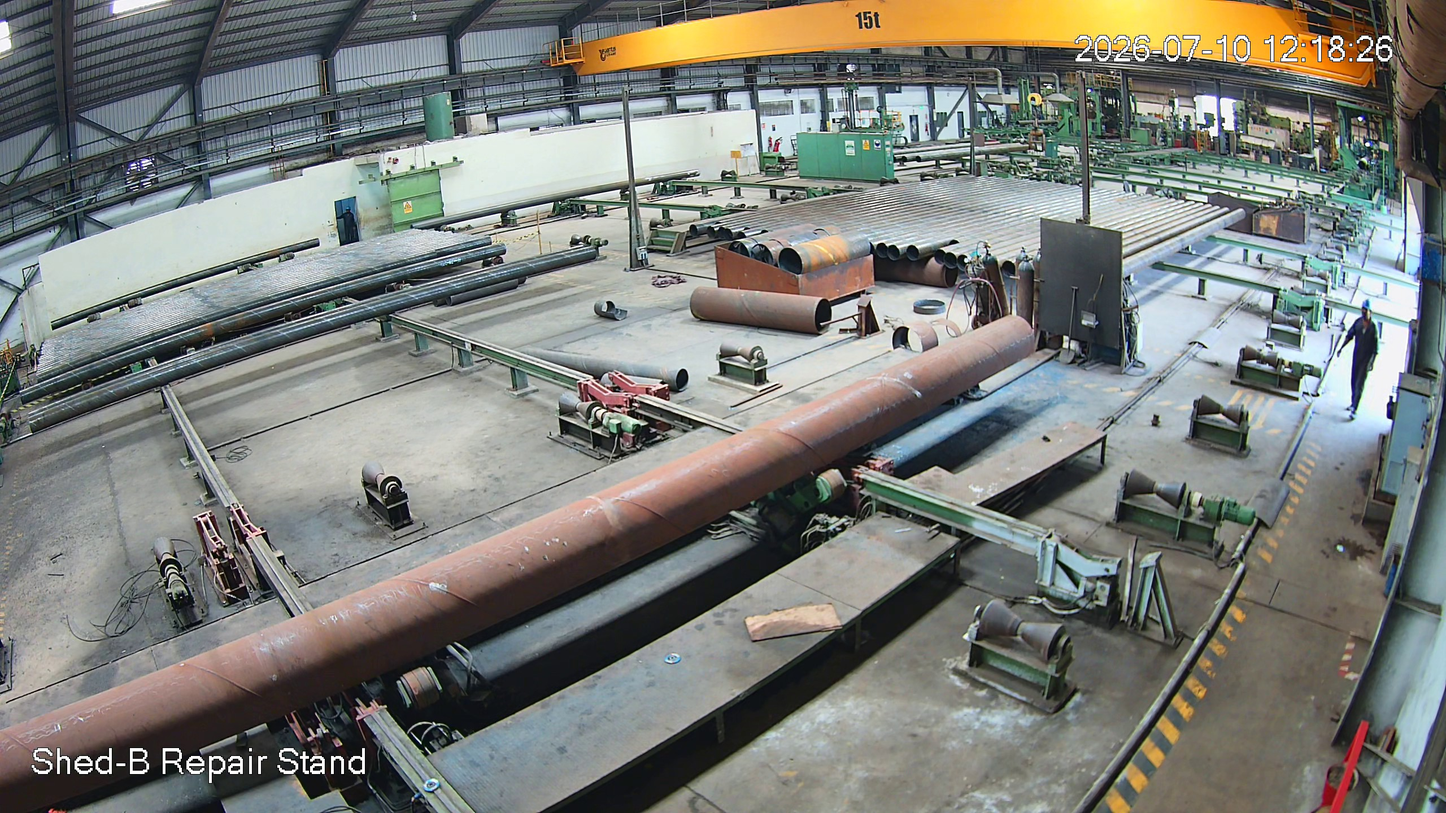Helmet: (1357, 290, 1378, 329)
Person: (1334, 293, 1384, 420)
